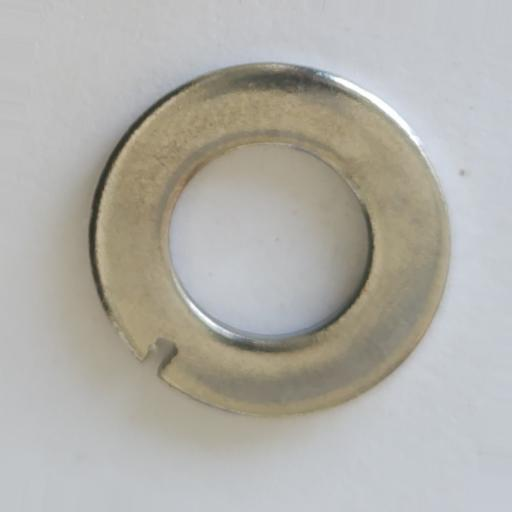burr: (140, 335, 180, 375)
